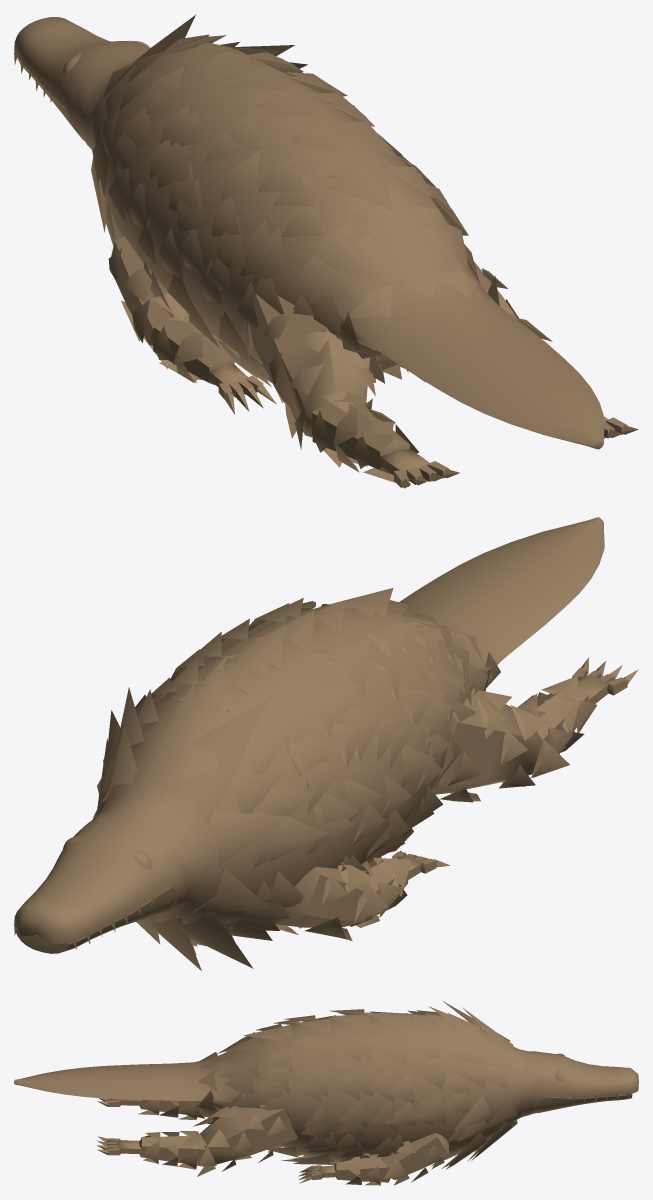
Rendered from river_beast_game.glb.
3 views of the same model, one above another, from view 1: azimuth 30°, elevation 25°; view 2: azimuth 150°, elevation 25°; view 3: azimuth 270°, elevation 25° (orthographic). The views are drawn at different scales.
Parts seen in each view (by area): view 1: river_beast_game; view 2: river_beast_game; view 3: river_beast_game.
Part boxes in pixels (x1,y1,x2,y2): river_beast_game: (14,15,638,488); river_beast_game: (14,517,638,970); river_beast_game: (14,1001,638,1185).
Size of the model in its own units: 1.07 by 1.13 by 3.94.
